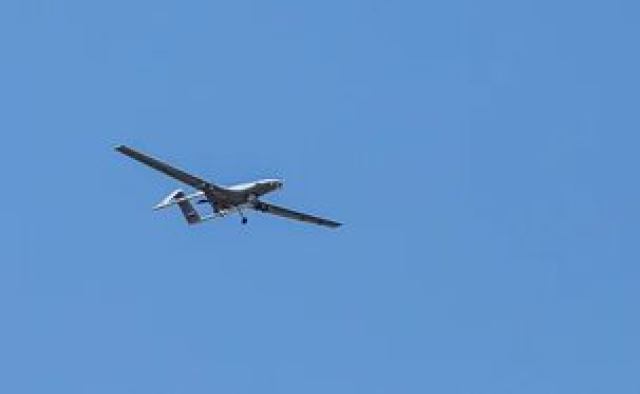military drone: (114, 143, 345, 229)
